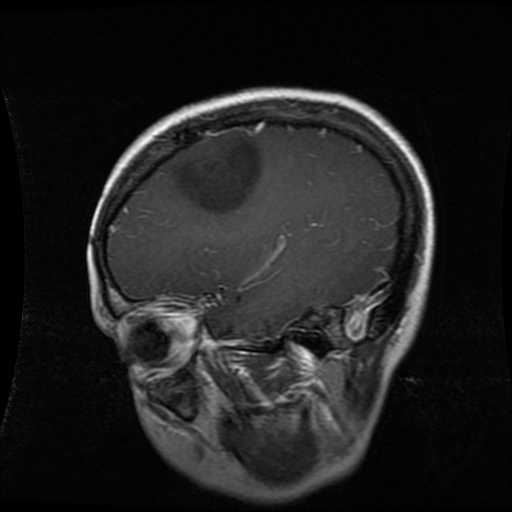glioma: (171, 136, 261, 212)
